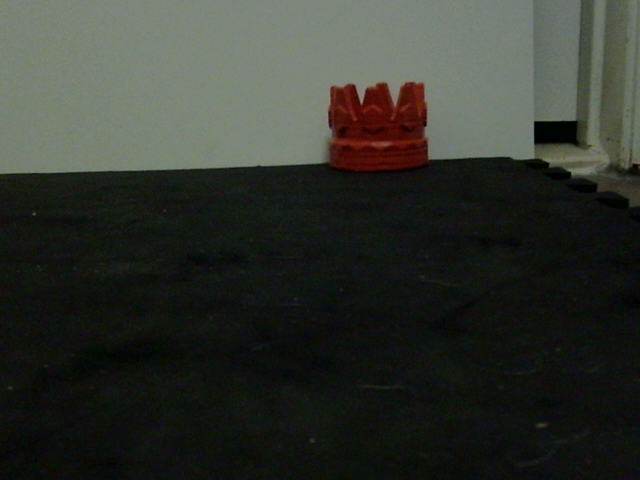crown: (325, 81, 431, 175)
